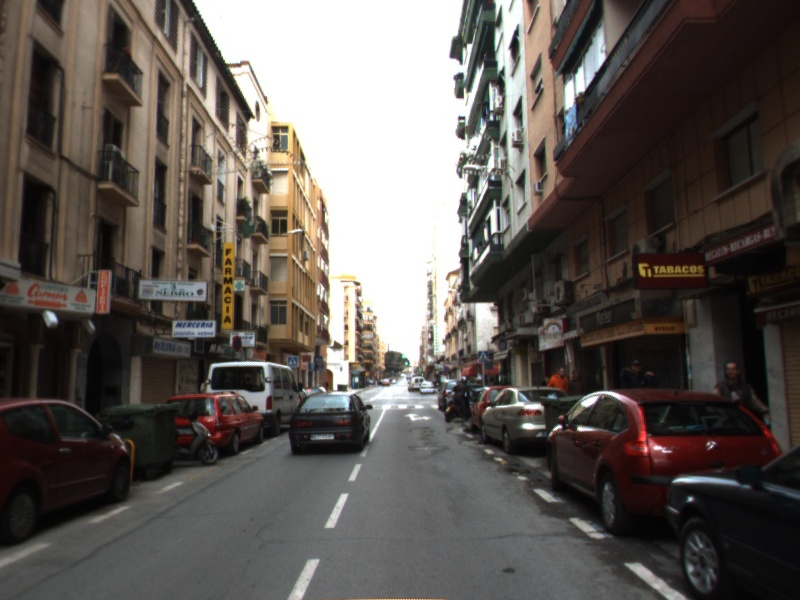STRAIGHT_RIGHT: (402, 411, 435, 423)
